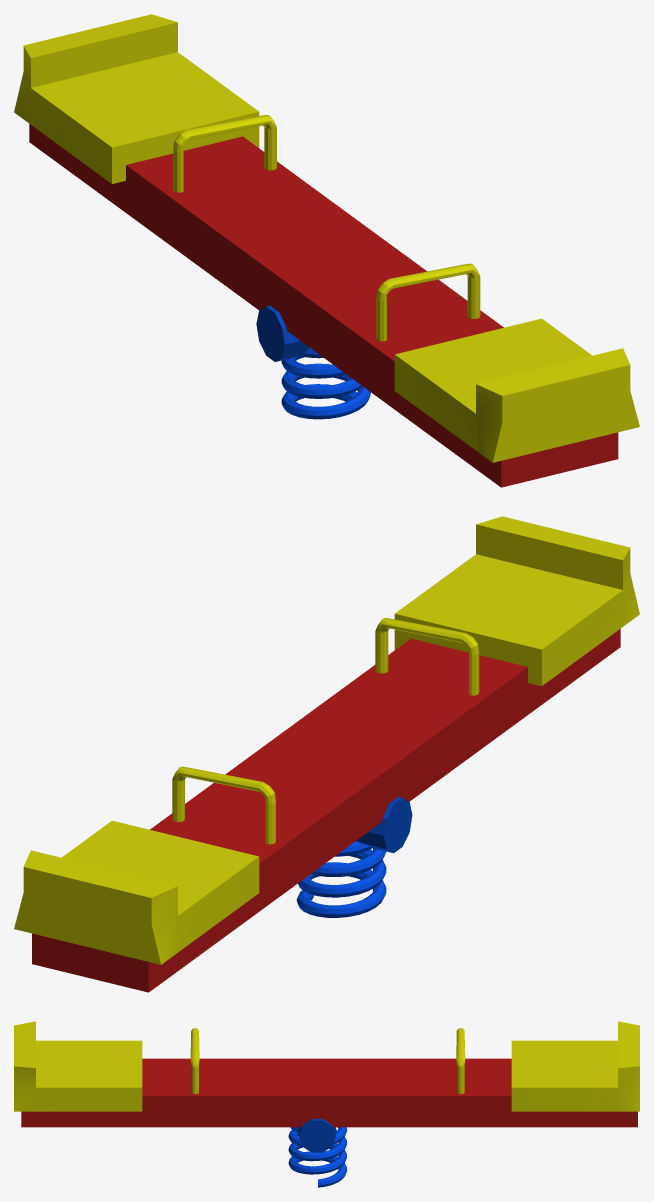
Rendered from seesaw.fbx.
The picture shows the model from 3 angles, top to bottom: view 1: azimuth 30°, elevation 25°; view 2: azimuth 150°, elevation 25°; view 3: azimuth 270°, elevation 25°; orthographic projection. The views are drawn at different scales.
Visible parts, largest first — view 1: pCube28, pHelix6; view 2: pCube28, pHelix6; view 3: pCube28, pHelix6.
Part boxes in pixels (x1,y1,x2,y2): pCube28: (14,14,639,487); pHelix6: (256,305,370,419); pCube28: (14,516,639,992); pHelix6: (296,797,412,917); pCube28: (14,1021,639,1127); pHelix6: (288,1119,347,1187).
Bounding box in the file's own units: 0.7492 × 1.04 × 4.22.
